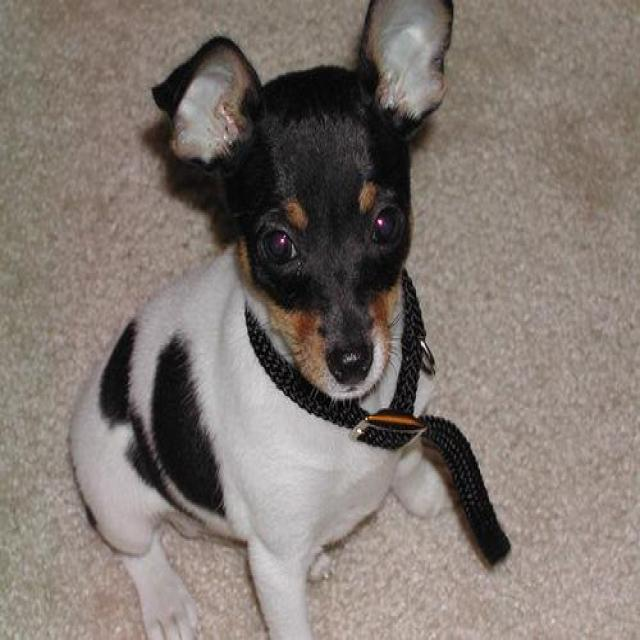toy_terrier: (66, 0, 510, 631)
